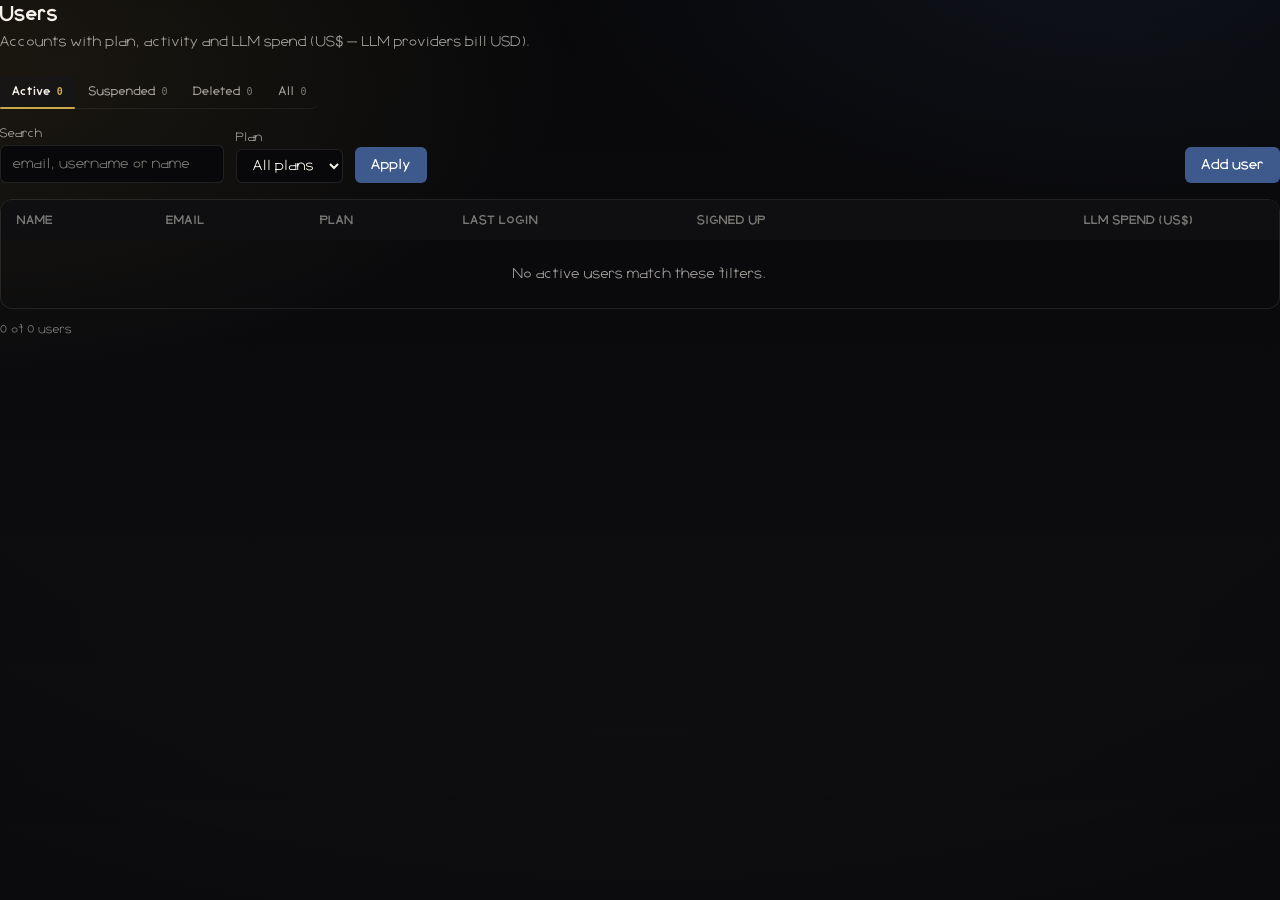
Test case: add-user modal › sends the email and name the admin typed
This screenshot has width=1280, height=900.
Click the button with test id "admin-add-user" at (1233, 165), box x1=1185 y1=147 x2=1279 y2=183
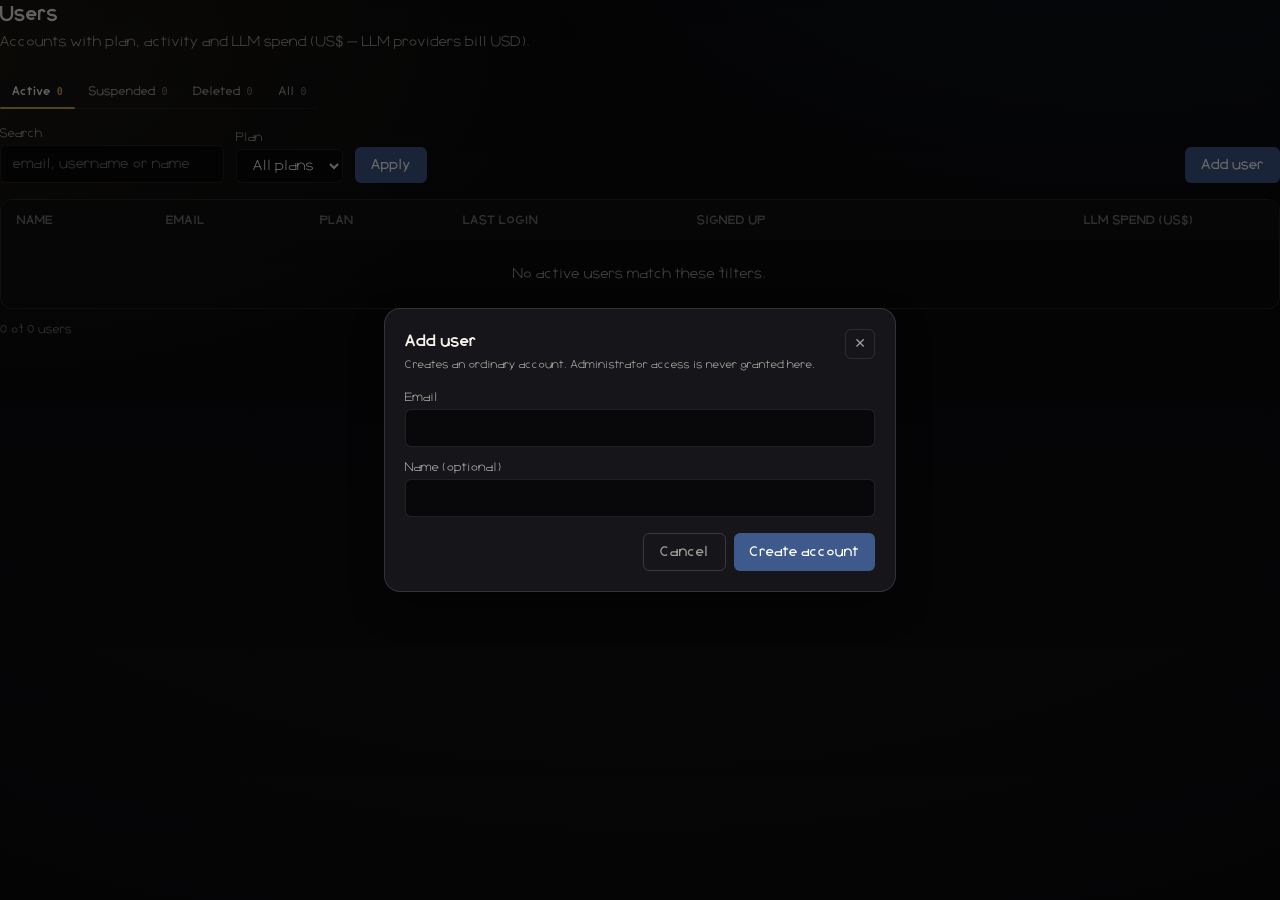
Check: the dialog with test id "admin-add-user-dialog" is shown, box x1=384 y1=308 x2=896 y2=592
Type "jo@example.com" into the field named "New user email" at (640, 428), box x1=405 y1=409 x2=875 y2=447
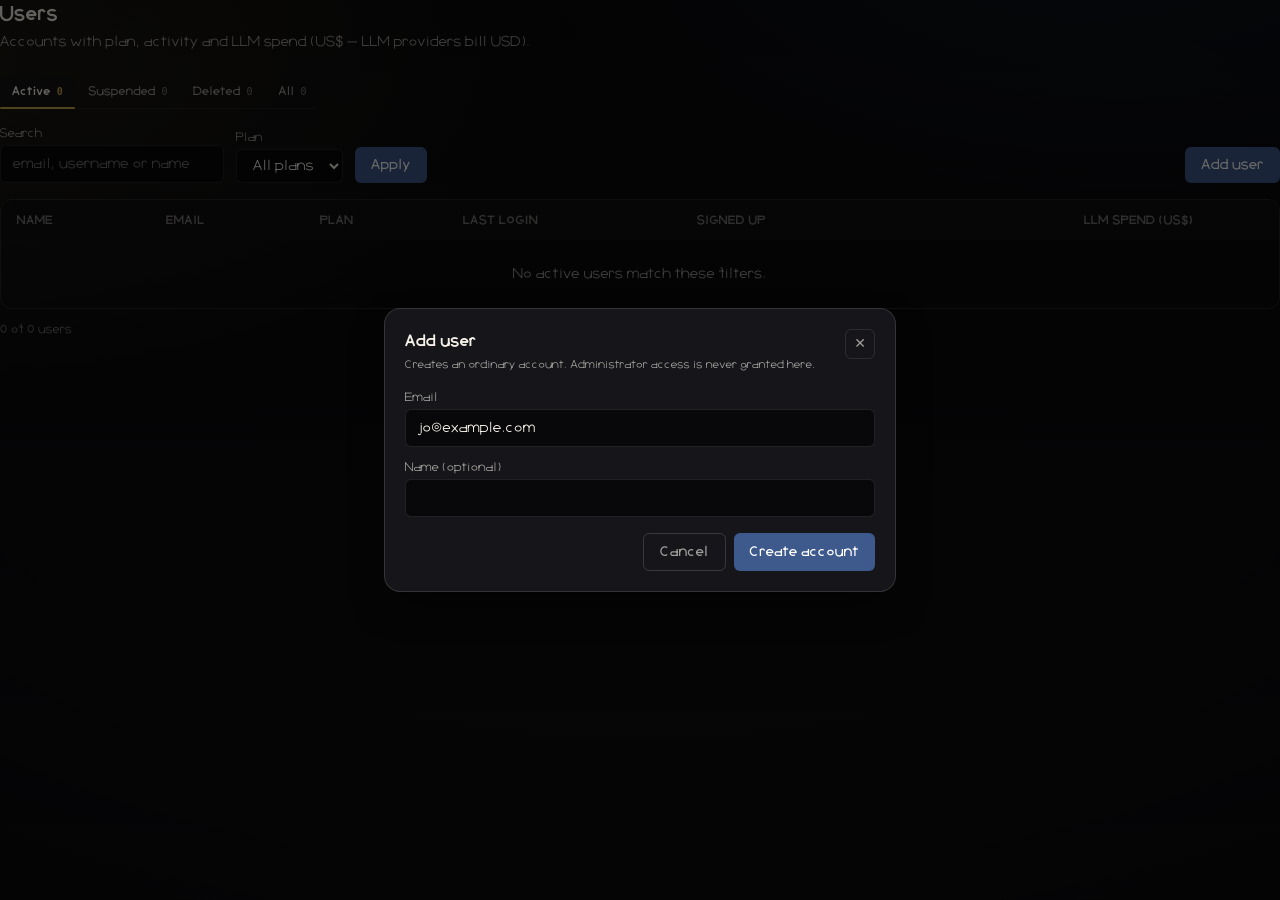
Type "Jo Smith" into the field named "New user name (optional)" at (640, 498), box x1=405 y1=479 x2=875 y2=517
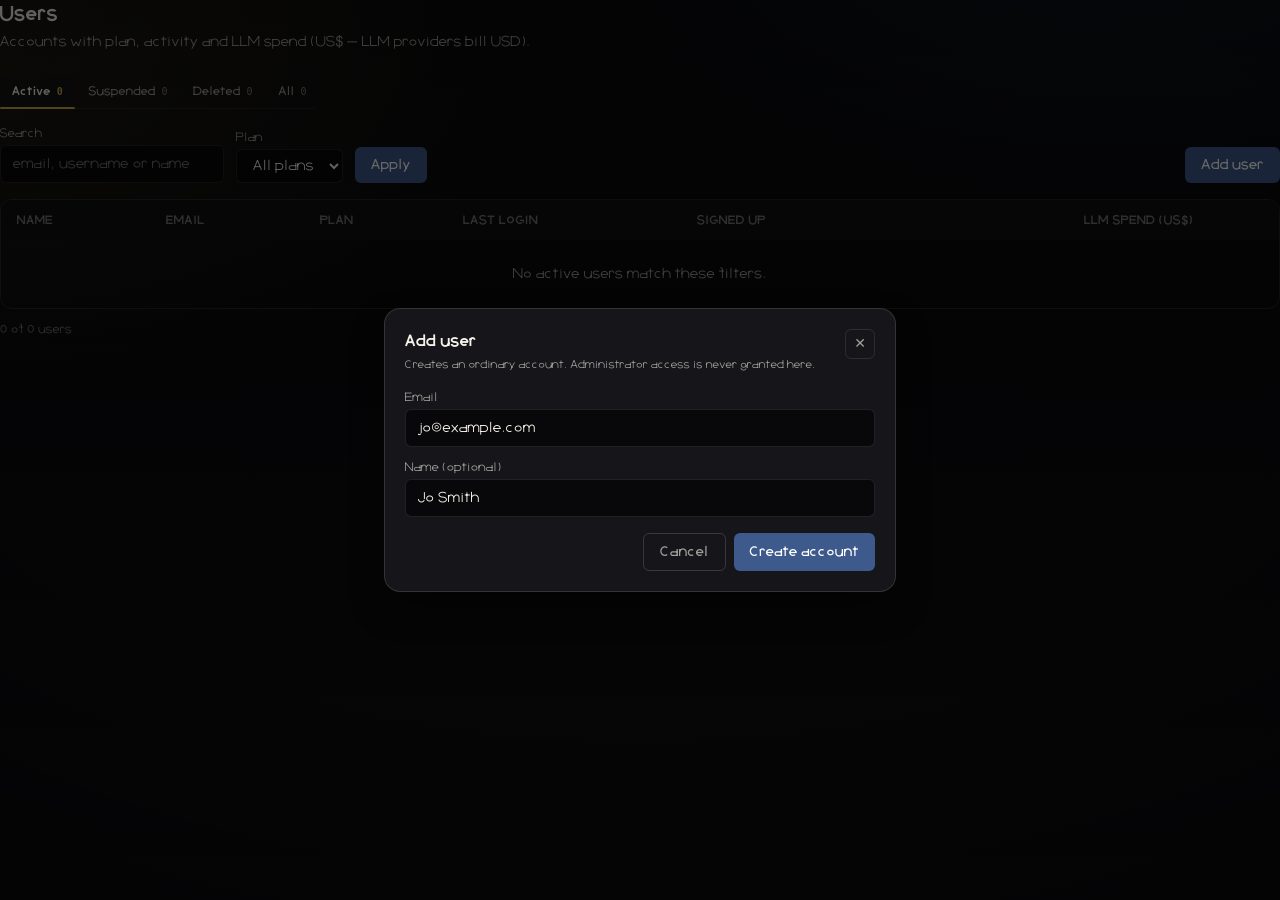
Click the button with test id "admin-add-user-submit" at (804, 552), box x1=734 y1=533 x2=875 y2=571
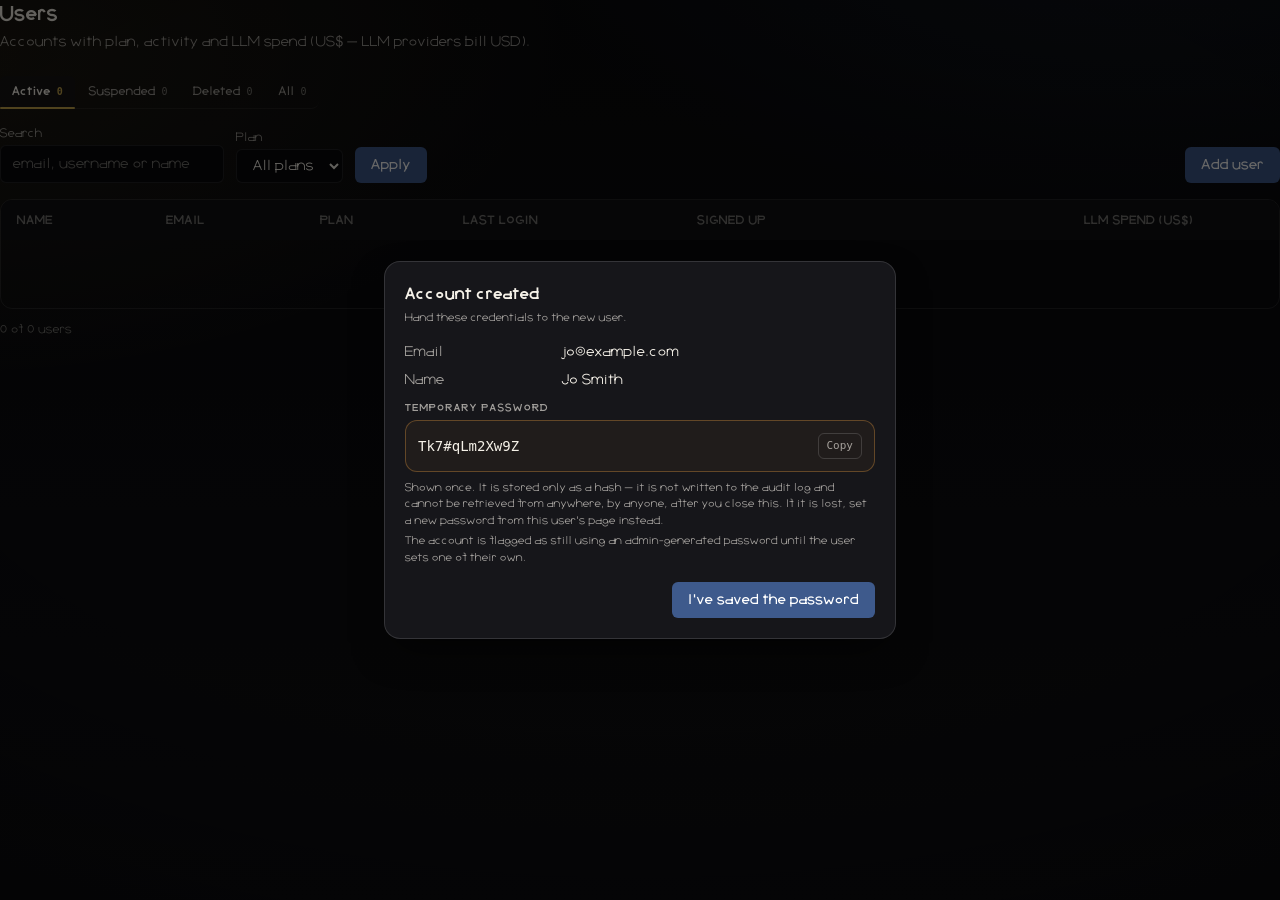
Check: the text "Tk7#qLm2Xw9Z" is shown, box x1=418 y1=438 x2=519 y2=454
